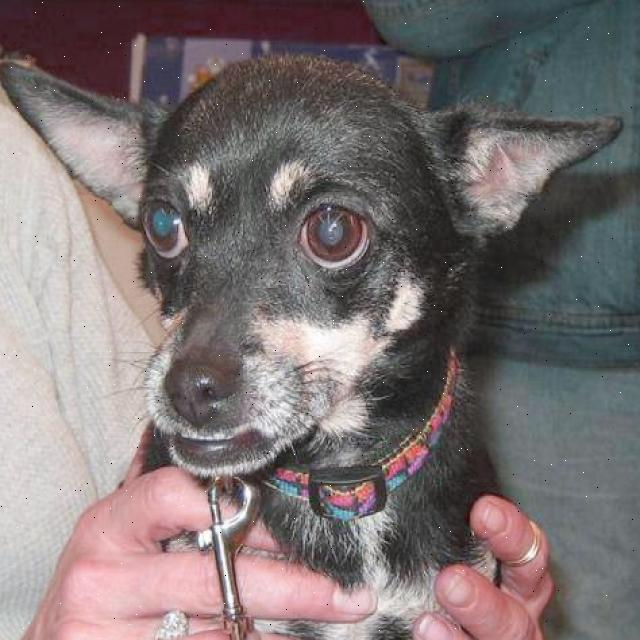Dog: (0, 0, 630, 503)
